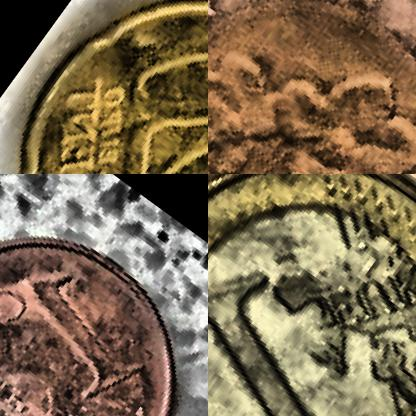coin: (208, 174, 415, 415), (0, 185, 207, 415), (0, 0, 207, 173), (208, 0, 415, 173)
